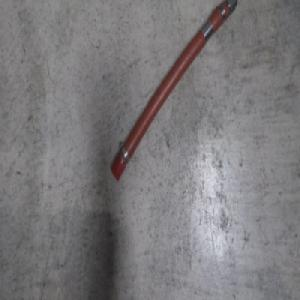Hose: (109, 0, 239, 183)
